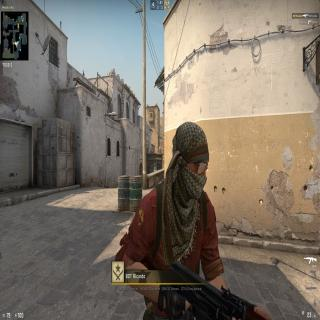T-Head: (167, 119, 211, 212)
